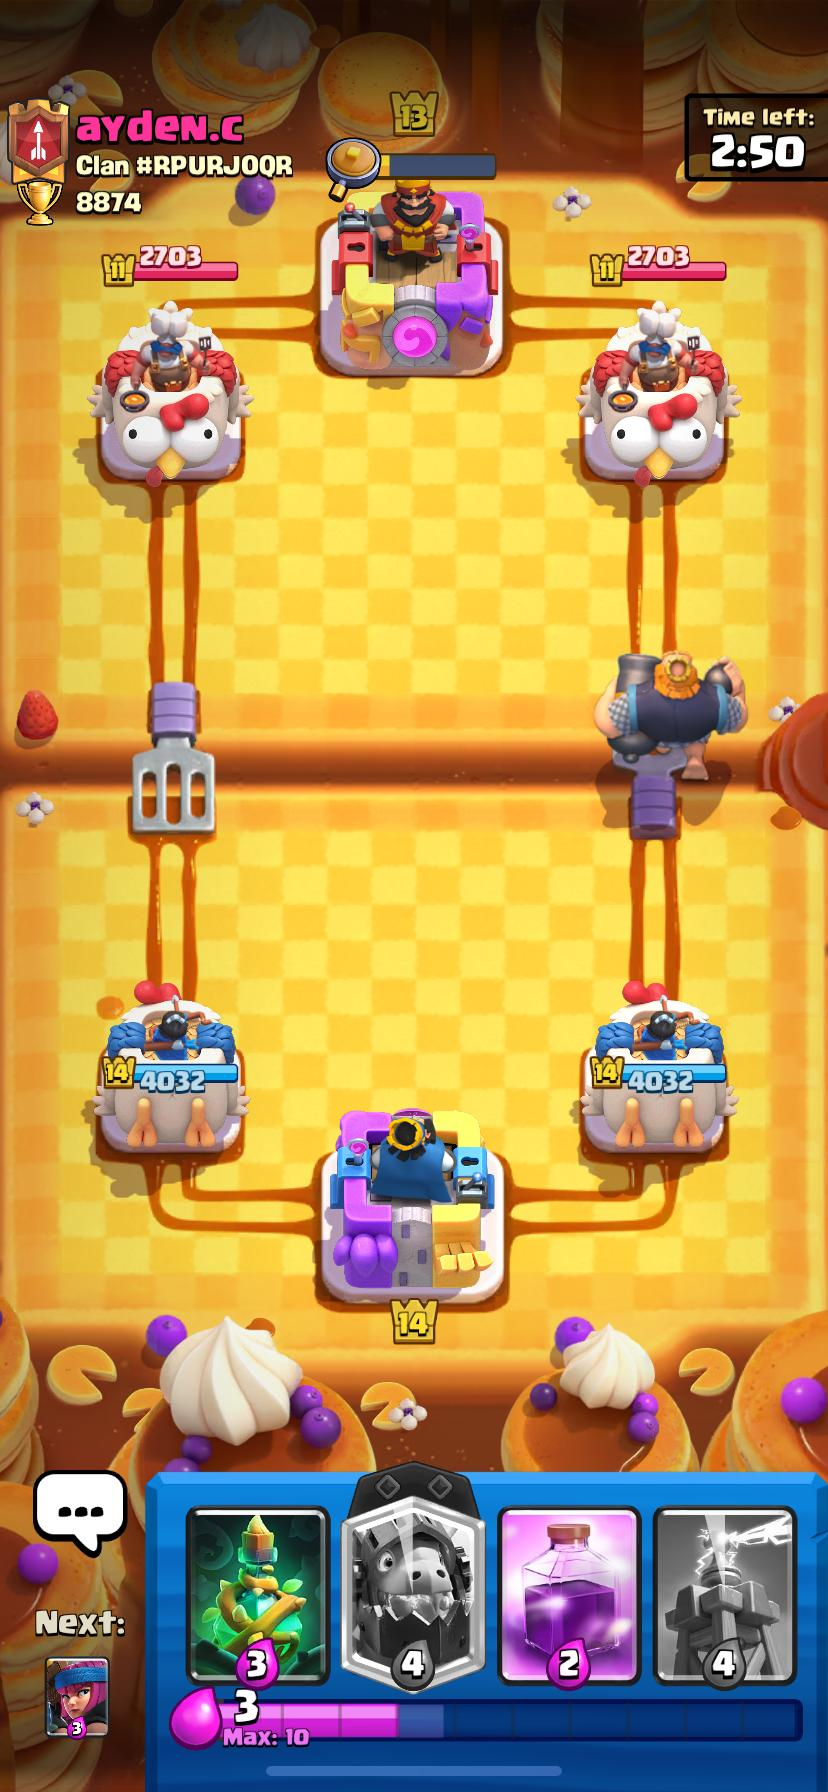EKingTower: (320, 181, 502, 378)
EnemyPanTower: (578, 301, 739, 487), (90, 301, 250, 486)
ORoyalG: (595, 650, 747, 781)
OwnKingTower: (321, 1109, 503, 1303)
OwnPrincessTower: (580, 982, 737, 1154), (93, 983, 248, 1152)
